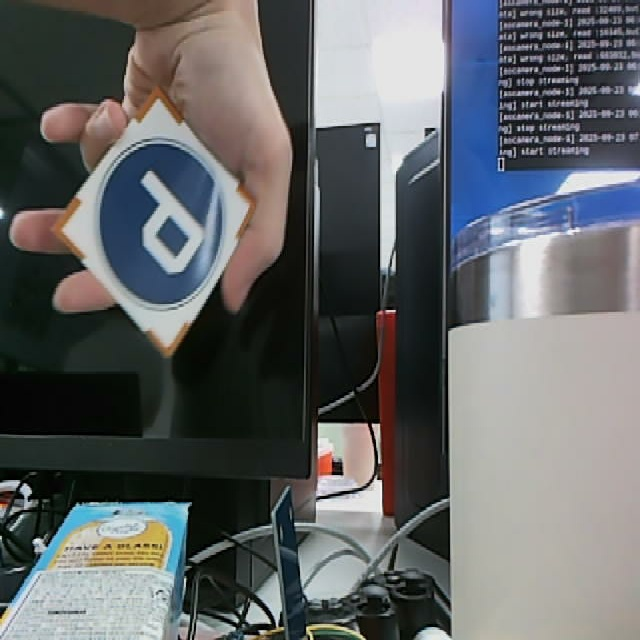parking: (50, 83, 255, 359)
